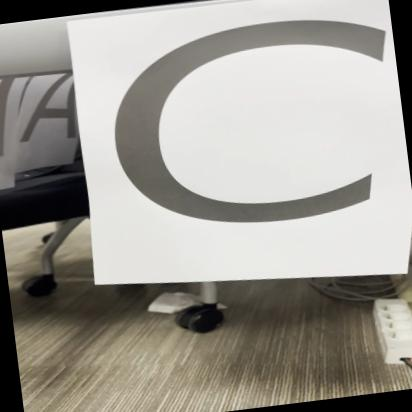seat: (68, 0, 412, 296)
